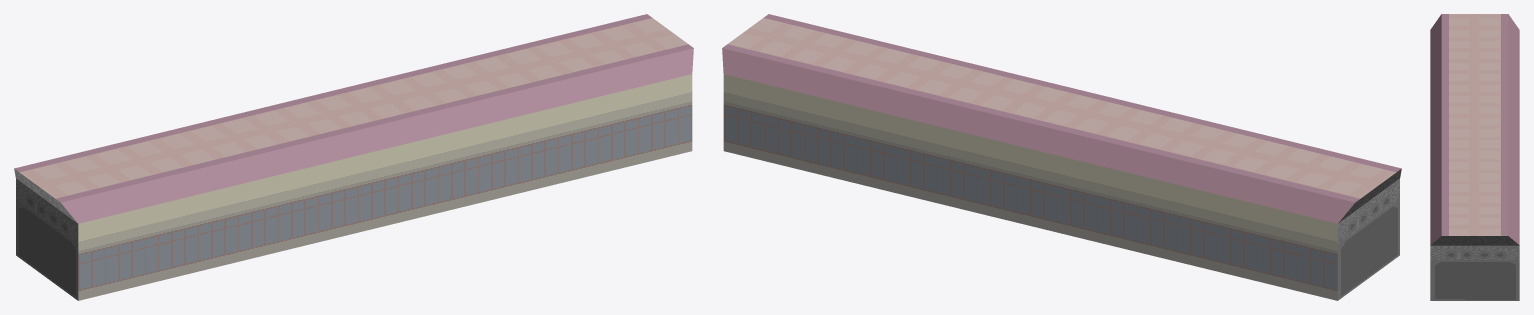
File: 0560_Connecting_Bridge.glb
The picture shows the model from 3 angles, left to right: view 1: azimuth 30°, elevation 25°; view 2: azimuth 150°, elevation 25°; view 3: azimuth 270°, elevation 25°; orthographic projection. The views are drawn at different scales.
Parts seen in each view (by area): view 1: part_0; view 2: part_0; view 3: part_0.
Boxes of the visible parts, x1,y1,x2,y2 form: part_0: [14, 14, 693, 300]; part_0: [722, 14, 1401, 300]; part_0: [1430, 14, 1519, 300].
Size of the model in its own units: 22.5 by 3.22 by 3.84.
Materials: 1 (1 with a texture image).
